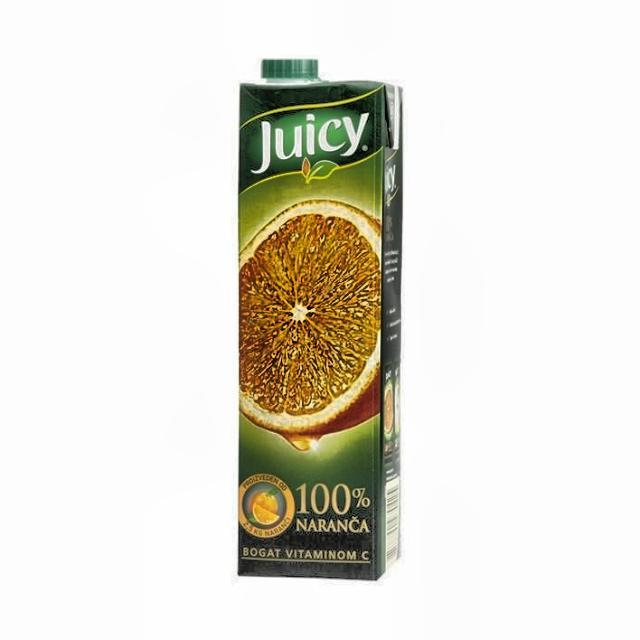cardboard: (236, 59, 403, 580)
